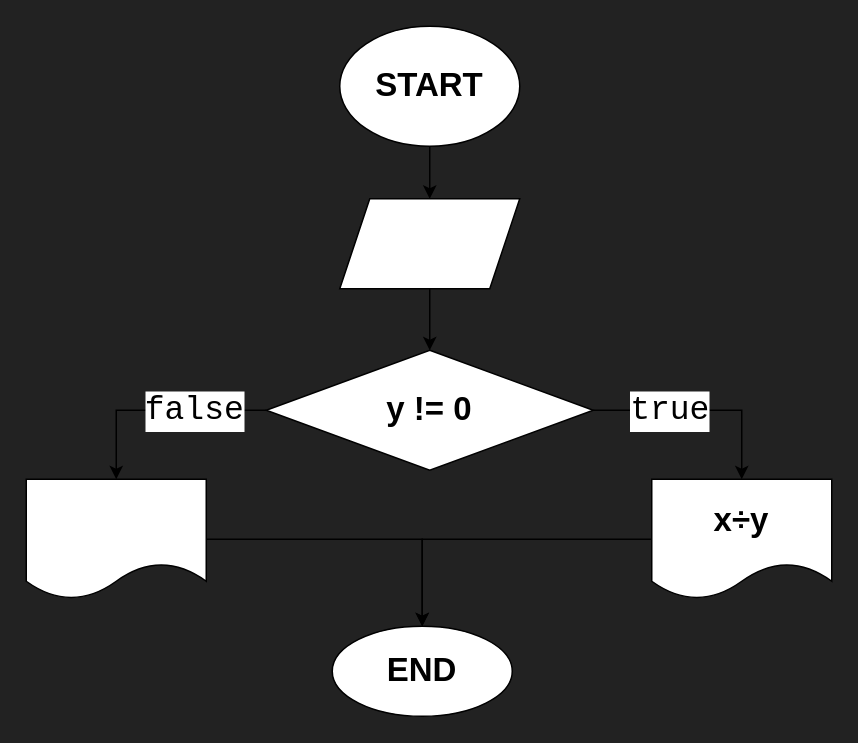
Image size: 858x743. Some labels were removed from this diagram. Here are the shapes that lost their labels. From the top down, the centre of each, then its label:
At pixel 429 243: "x, y".
At pixel 115 538: "NaN".
